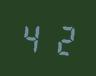four: (19, 18, 46, 55)
two: (47, 19, 74, 57)
